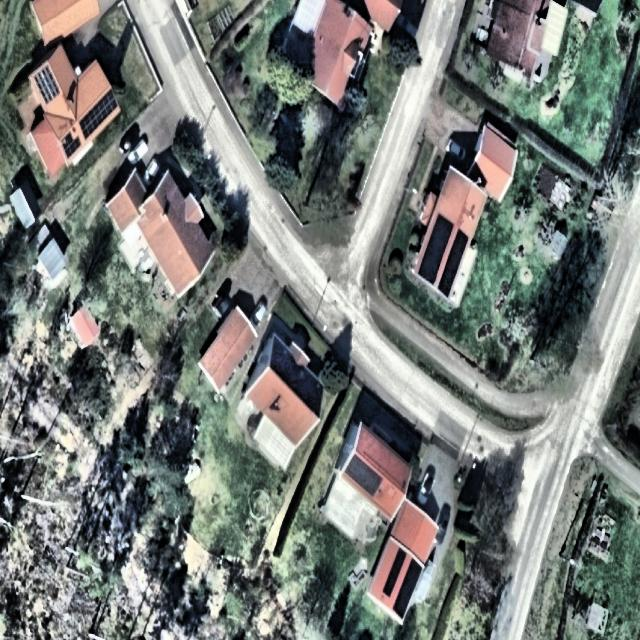roof_pv: (419, 212, 454, 286), (440, 229, 470, 301), (78, 90, 121, 139), (344, 454, 382, 500), (395, 558, 423, 618), (382, 544, 406, 604), (33, 65, 61, 106), (60, 130, 82, 158)
